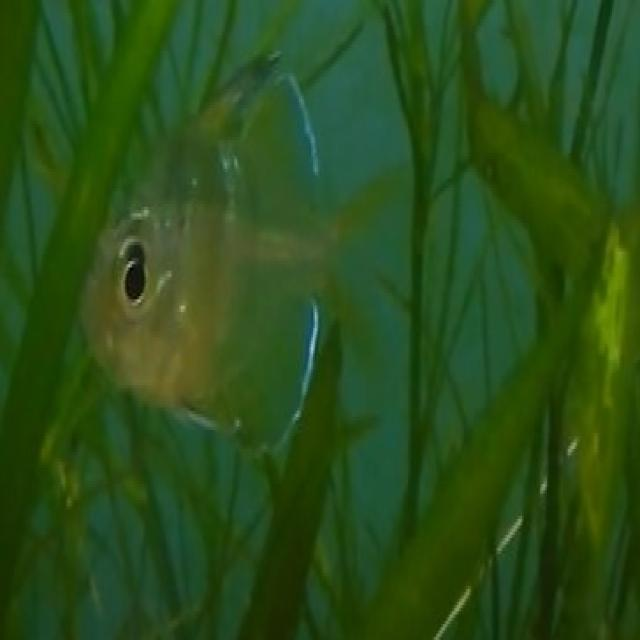Glass-Perchlet: (52, 80, 440, 452)
